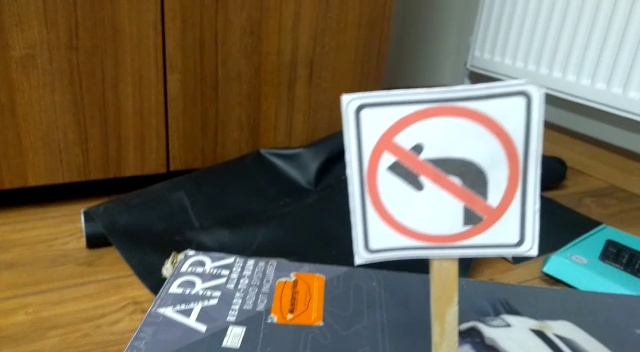sola_donulmez: (359, 92, 522, 258)
